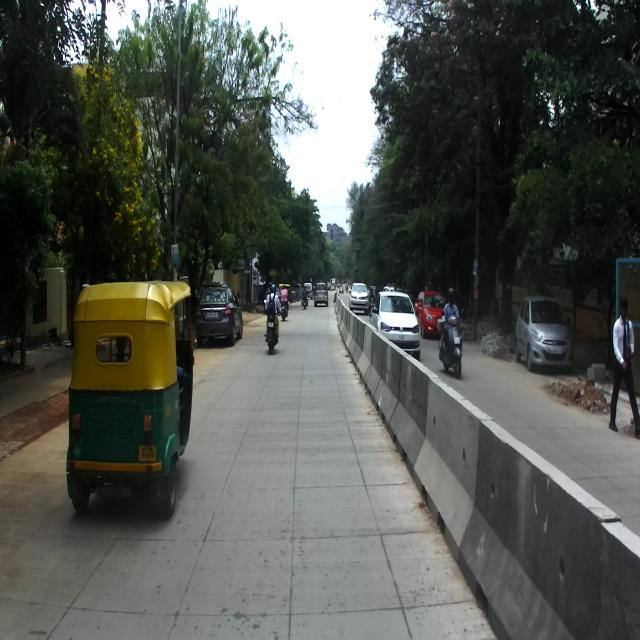auto ahead at: (67, 273, 198, 519)
